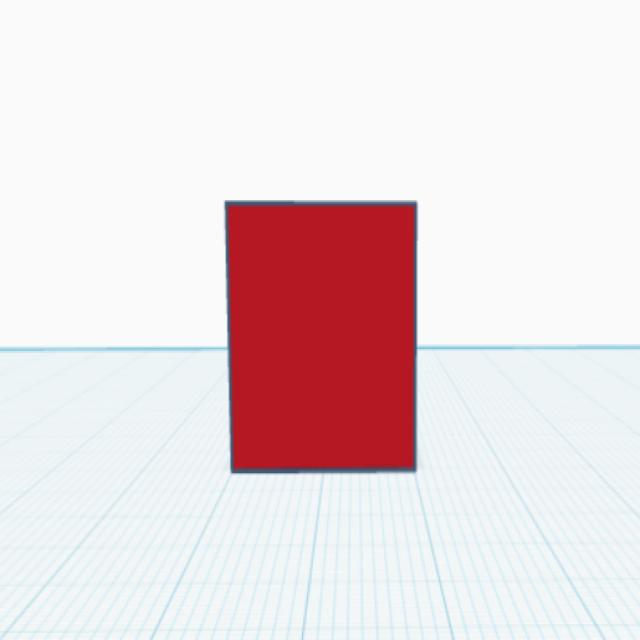cube: (217, 190, 424, 486)
